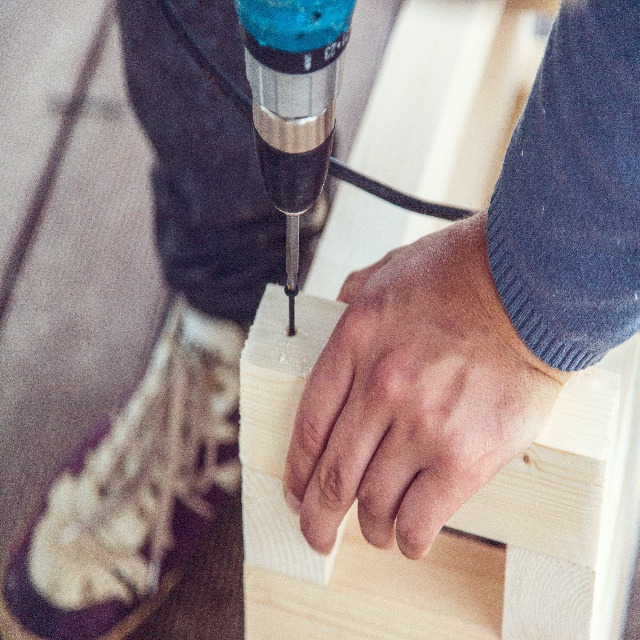Sin_guantes: (281, 212, 562, 567)
